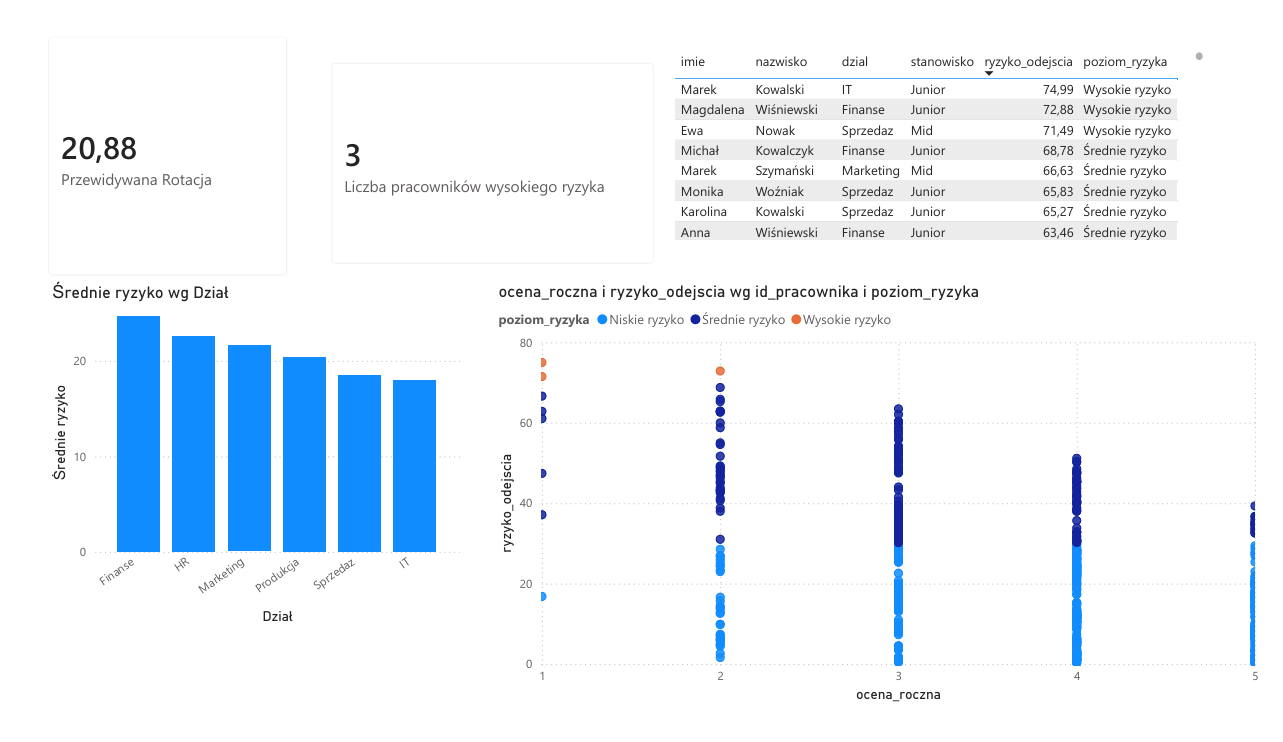

The dashboard page shown, as its layout file describes it:
{"tool":"powerbi","page":{"name":"Strona 1","canvas":[1280,720],"ordinal":0},"visuals":[{"type":"cardVisual","fields":{"Data":["Raport.Przewidywana Rotacja"]},"box":[10,0,280,280],"z":0},{"type":"clusteredColumnChart","fields":{"Category":["public vw_ryzyko_dzial.dzial"],"Y":["Avg(public vw_ryzyko_dzial.srednie_ryzyko)"]},"box":[26.1,269,429.5,359.5],"z":1},{"type":"cardVisual","fields":{"Data":["Raport.Wysokie Ryzyko"]},"box":[301.9,27.4,366.4,241.5],"z":2},{"type":"scatterChart","fields":{"X":["Avg(public vw_ryzyko_pracownikow.ocena_roczna)"],"Y":["Avg(public vw_ryzyko_pracownikow.ryzyko_odejscia)"],"Category":["public vw_ryzyko_pracownikow.id_pracownika"],"Series":["public vw_ryzyko_pracownikow.poziom_ryzyka"]},"box":[485.8,269,794.5,437.7],"z":3},{"type":"tableEx","fields":{"Values":["public vw_ryzyko_pracownikow.imie","public vw_ryzyko_pracownikow.nazwisko","public vw_ryzyko_pracownikow.dzial","public vw_ryzyko_pracownikow.stanowisko","public vw_ryzyko_pracownikow.ryzyko_odejscia","public vw_ryzyko_pracownikow.poziom_ryzyka"]},"box":[668.3,27.4,554.4,203.1],"z":4}]}

Visuals, with their boxes in screenshot pixels (x1, y1, x2, y2), scaled from the page's 1280x720 canvas onto the 1283x742 screenshot:
cardVisual - Raport.Przewidywana Rotacja: bbox(10, 0, 291, 289)
clusteredColumnChart - public vw_ryzyko_dzial.dzial x Avg(public vw_ryzyko_dzial.srednie_ryzyko): bbox(26, 277, 457, 648)
cardVisual - Raport.Wysokie Ryzyko: bbox(303, 28, 670, 277)
scatterChart - Avg(public vw_ryzyko_pracownikow.ocena_roczna) x Avg(public vw_ryzyko_pracownikow.ryzyko_odejscia): bbox(487, 277, 1282, 728)
tableEx - public vw_ryzyko_pracownikow.imie x public vw_ryzyko_pracownikow.nazwisko: bbox(670, 28, 1226, 238)
